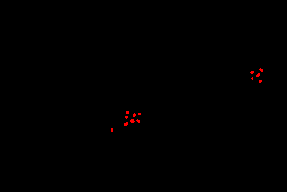Target: (130, 119, 135, 123), (259, 68, 263, 72), (256, 73, 260, 77), (136, 119, 140, 123), (124, 122, 128, 126), (250, 71, 254, 74), (133, 113, 136, 117), (259, 80, 262, 83), (126, 111, 129, 114), (125, 116, 128, 119), (111, 128, 113, 132), (251, 77, 253, 80), (138, 113, 141, 115)
